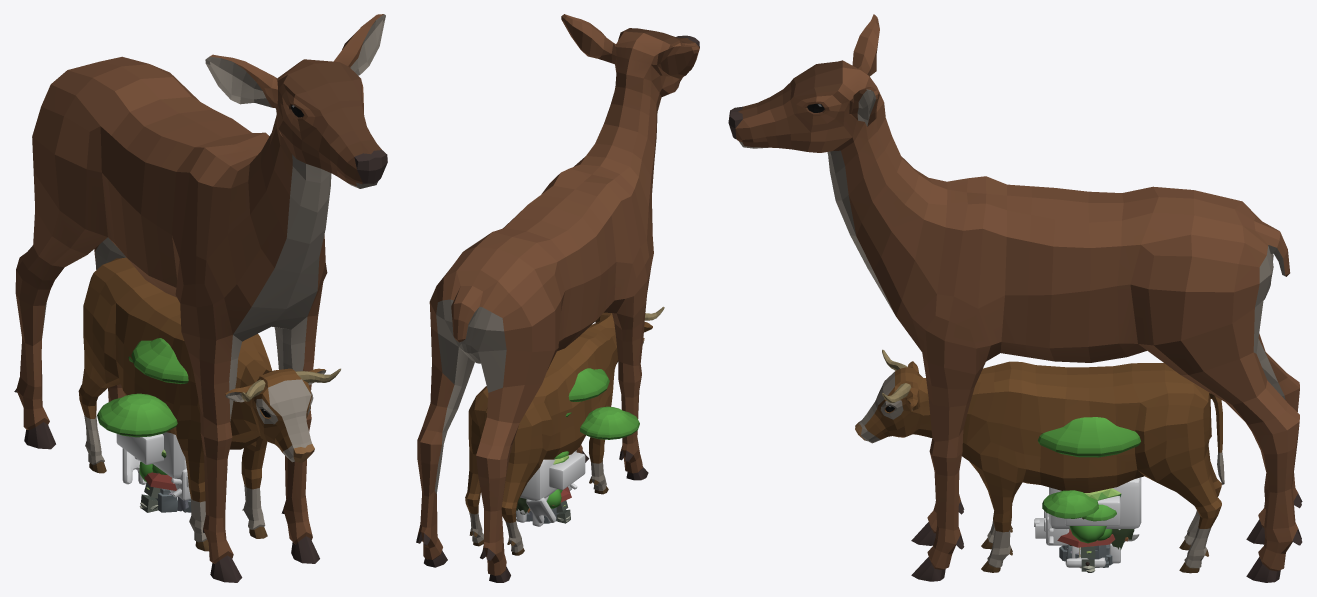
The model's file is prefabs.glb.
3 views of the same model, side by side, from view 1: azimuth 30°, elevation 25°; view 2: azimuth 150°, elevation 25°; view 3: azimuth 270°, elevation 25° (orthographic). The views are drawn at different scales.
Visible parts, largest first — view 1: cc0_deer, cc0_cow, cc0_ancient, cc0_chicken; view 2: cc0_deer, cc0_cow, cc0_ancient, cc0_chicken; view 3: cc0_deer, cc0_cow, cc0_ancient, cc0_chicken, cc0_cat.
Part boxes in pixels (x1,y1,x2,y2): cc0_deer: (14,14,387,582); cc0_cow: (78,257,340,551); cc0_ancient: (97,338,188,437); cc0_chicken: (116,432,185,484); cc0_deer: (416,14,699,582); cc0_cow: (465,306,664,555); cc0_ancient: (554,368,639,458); cc0_chicken: (515,450,585,523); cc0_deer: (728,14,1302,582); cc0_cow: (855,349,1224,573); cc0_ancient: (1037,417,1140,521); cc0_chicken: (1049,477,1141,567); cc0_cat: (1034,510,1120,563).
Size of what is drawn, in the model's own units: 23.42 by 65.47 by 67.03.
